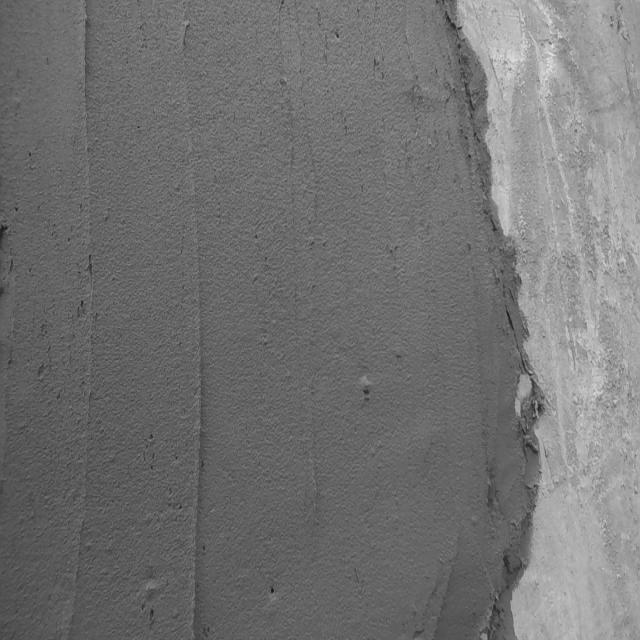trowels marks: (75, 7, 100, 556), (186, 199, 208, 640)
